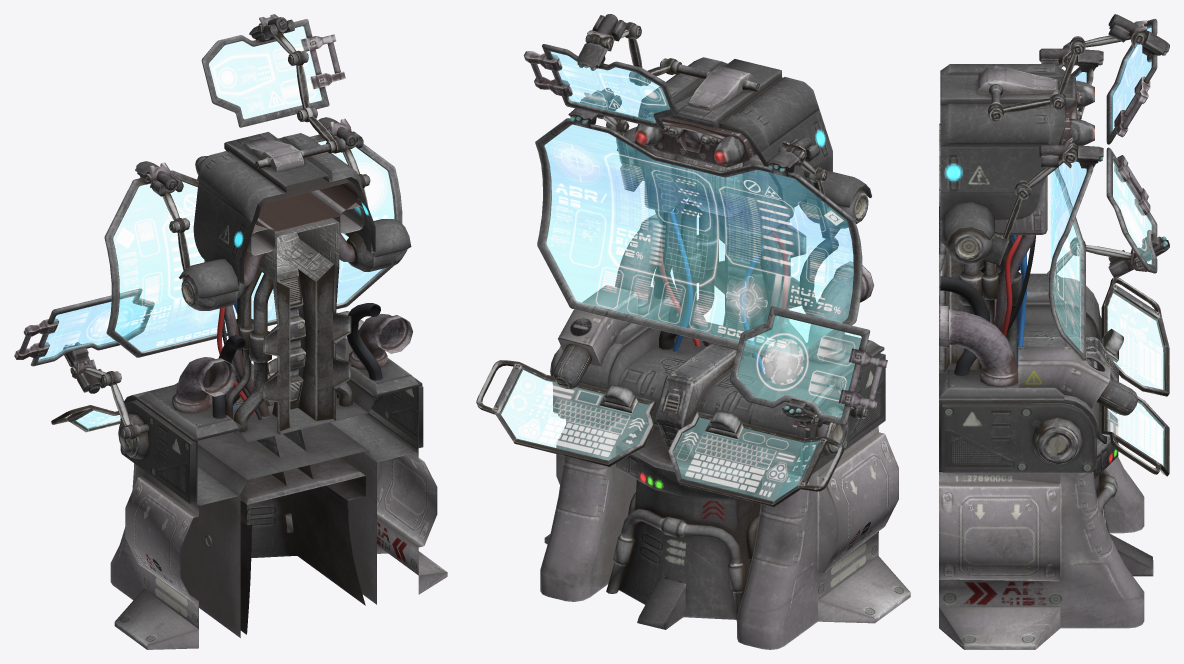
Rendered from console.gltf.
3 renders of one model, left to right at view 1: azimuth 30°, elevation 25°; view 2: azimuth 150°, elevation 25°; view 3: azimuth 270°, elevation 25°, orthographic. The views are drawn at different scales.
Parts seen in each view (by area): view 1: Monitor.35_low, Screen04, Monitor.66_low, Monitor.67_low, Monitor.20_low, Monitor.49_low, Monitor.58_low, Monitor.44_low, Monitor.50_low, Monitor.64_low, Monitor.48_low, Monitor.47_low (+15 smaller); view 2: Screen04, Monitor.35_low, Monitor.66_low, Monitor.20_low, Monitor.49_low, Monitor.15_low, Monitor.44_low, Monitor.67_low, Monitor.58_low, Monitor.16_low, Monitor.55_low, Monitor.63_low (+23 smaller); view 3: Monitor.35_low, Monitor.66_low, Monitor.49_low, Screen04, Monitor.15_low, Monitor.01_low, Monitor.58_low, Monitor.44_low, Monitor.11_low, Monitor.56_low, Monitor.20_low, Monitor.45_low (+26 smaller).
Boxes of the visible parts, bbox=[...] form: Monitor.35_low: bbox=[110, 452, 447, 649]; Screen04: bbox=[38, 26, 394, 429]; Monitor.66_low: bbox=[120, 353, 423, 505]; Monitor.67_low: bbox=[258, 218, 351, 433]; Monitor.20_low: bbox=[240, 457, 365, 634]; Monitor.49_low: bbox=[193, 132, 375, 285]; Monitor.58_low: bbox=[172, 314, 412, 413]; Monitor.44_low: bbox=[104, 134, 402, 357]; Monitor.50_low: bbox=[196, 172, 359, 231]; Monitor.64_low: bbox=[233, 265, 352, 434]; Monitor.48_low: bbox=[179, 219, 411, 298]; Monitor.47_low: bbox=[181, 233, 407, 310]; Screen04: bbox=[500, 52, 861, 500]; Monitor.35_low: bbox=[540, 418, 910, 649]; Monitor.66_low: bbox=[552, 287, 885, 476]; Monitor.20_low: bbox=[616, 424, 762, 629]; Monitor.49_low: bbox=[633, 57, 832, 208]; Monitor.15_low: bbox=[476, 360, 843, 506]; Monitor.44_low: bbox=[535, 118, 862, 364]; Monitor.67_low: bbox=[671, 155, 806, 356]; Monitor.58_low: bbox=[615, 214, 874, 363]; Monitor.16_low: bbox=[655, 344, 743, 460]; Monitor.55_low: bbox=[644, 145, 794, 236]; Monitor.63_low: bbox=[659, 199, 787, 374]; Monitor.35_low: bbox=[939, 457, 1144, 649]; Monitor.66_low: bbox=[939, 273, 1106, 472]; Monitor.49_low: bbox=[940, 64, 1075, 219]; Screen04: bbox=[1050, 27, 1164, 466]; Monitor.15_low: bbox=[1101, 277, 1169, 476]; Monitor.01_low: bbox=[1018, 346, 1110, 408]; Monitor.58_low: bbox=[939, 264, 1020, 387]; Monitor.44_low: bbox=[1048, 67, 1093, 360]; Monitor.11_low: bbox=[988, 26, 1147, 121]; Monitor.56_low: bbox=[1031, 417, 1082, 465]; Monitor.20_low: bbox=[1093, 410, 1153, 576]; Monitor.45_low: bbox=[978, 67, 1057, 94].
Size of the model in its own units: 1.41 by 2 by 0.7175.
